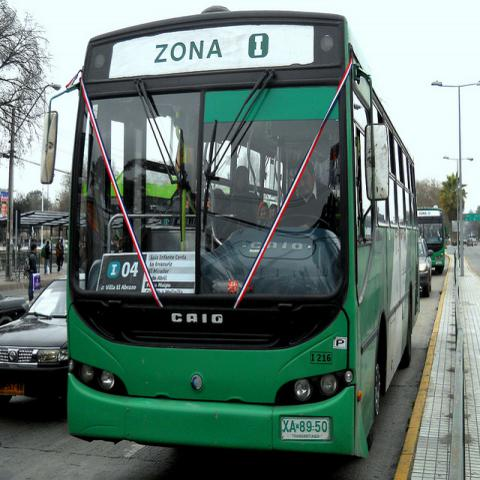bus: (69, 10, 425, 457), (419, 207, 445, 270)
car: (0, 275, 68, 415), (0, 291, 30, 326), (419, 238, 433, 298), (466, 239, 474, 247)
